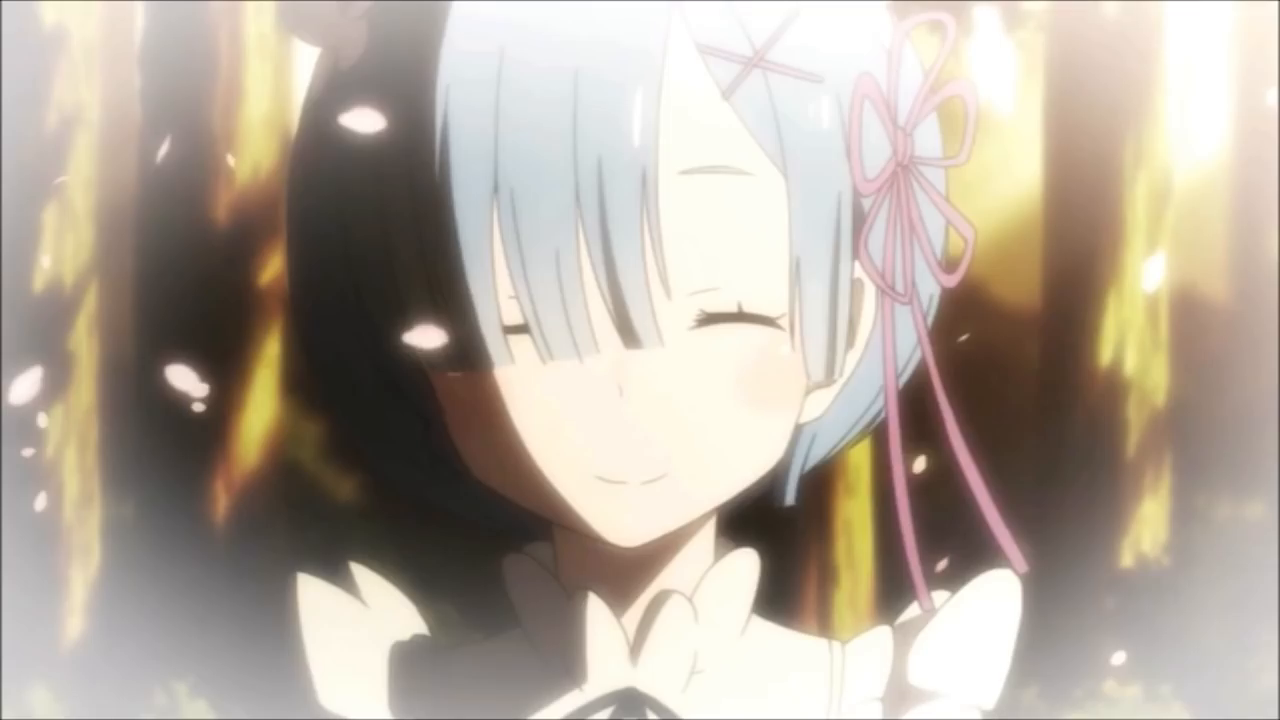REM: (278, 1, 957, 556)
